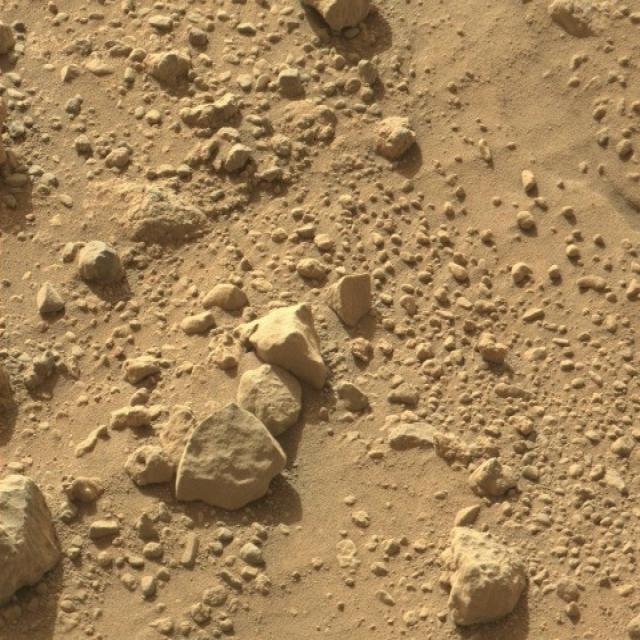mars-rocks: (175, 404, 286, 511), (0, 476, 61, 606), (449, 528, 528, 626), (249, 304, 328, 390), (237, 365, 302, 436)
